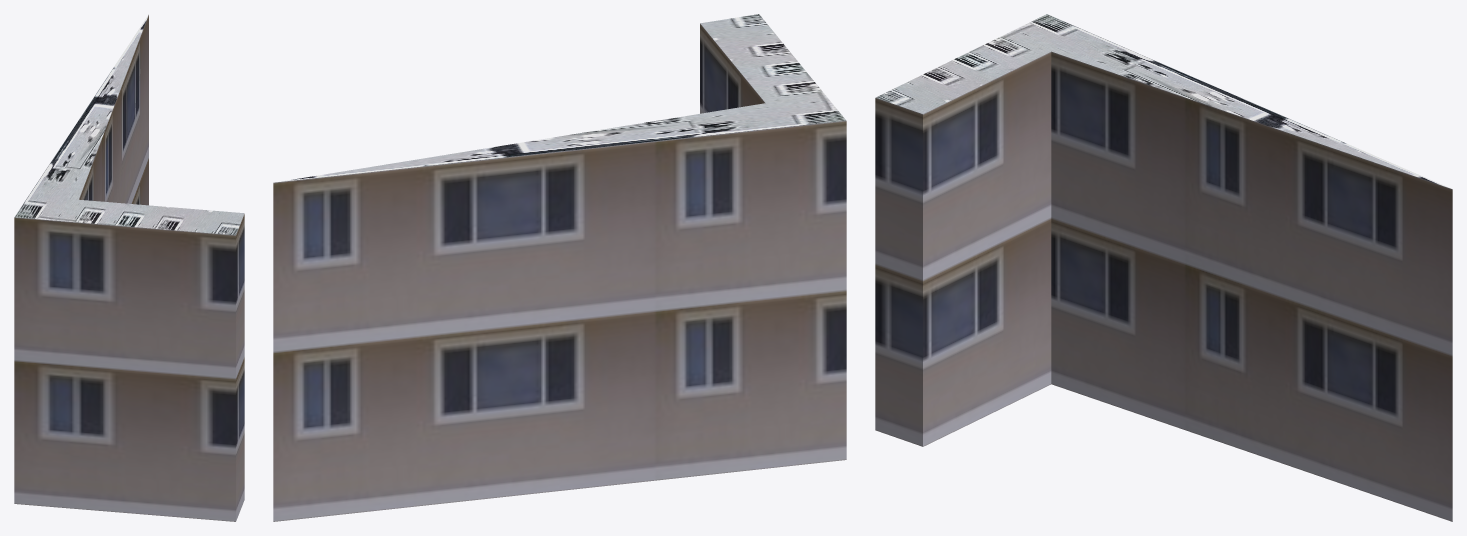
Rendered from ResTex__2146.fbx.
3 views of the same model, side by side, from view 1: azimuth 30°, elevation 25°; view 2: azimuth 150°, elevation 25°; view 3: azimuth 270°, elevation 25° (orthographic). The views are drawn at different scales.
Visible parts, largest first — view 1: CityEngineMaterial_21_m, CityEngineMaterial_8_m; view 2: CityEngineMaterial_21_m, CityEngineMaterial_8_m; view 3: CityEngineMaterial_21_m, CityEngineMaterial_8_m.
Part boxes in pixels (x1,y1,x2,y2): CityEngineMaterial_21_m: (14, 15, 244, 521); CityEngineMaterial_8_m: (14, 15, 244, 235); CityEngineMaterial_21_m: (273, 23, 846, 521); CityEngineMaterial_8_m: (277, 14, 845, 182); CityEngineMaterial_21_m: (875, 51, 1452, 521); CityEngineMaterial_8_m: (876, 14, 1449, 188).
Bounding box in the file's own units: 6.78 × 6 × 9.43.
Materials: 2 (2 with a texture image).
